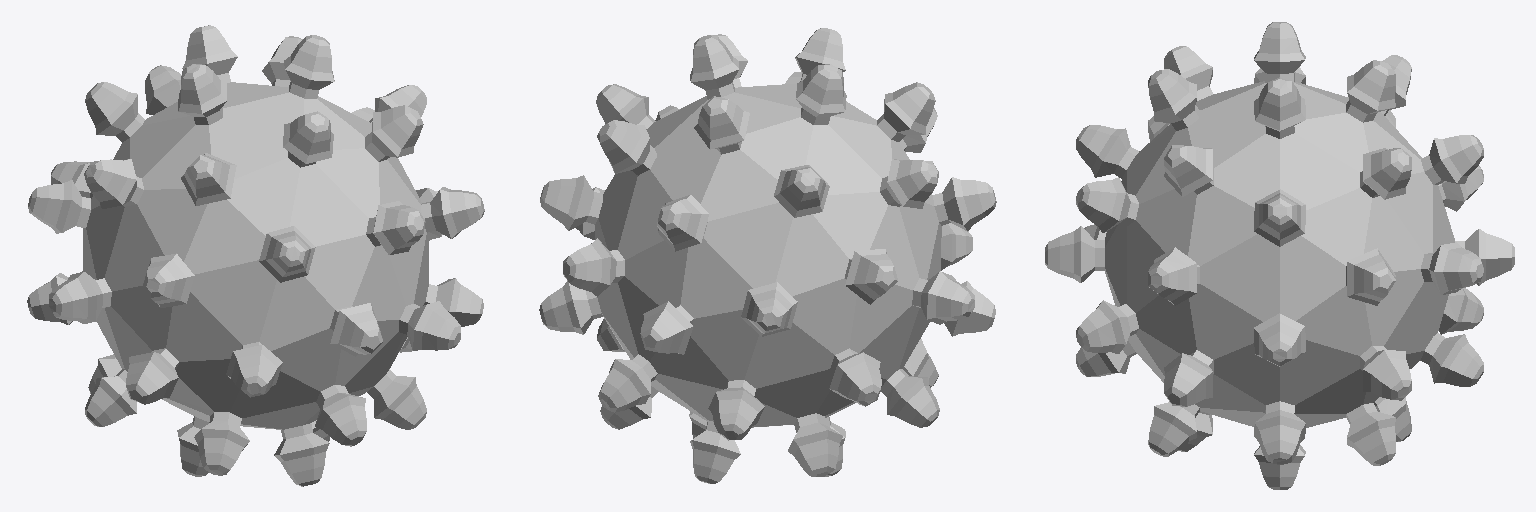
Rendered from virus.obj.
3 views of the same model, side by side, from view 1: azimuth 30°, elevation 25°; view 2: azimuth 150°, elevation 25°; view 3: azimuth 270°, elevation 25° (orthographic).
Visible parts, largest first — view 1: virus_covid_texture; view 2: virus_covid_texture; view 3: virus_covid_texture.
Boxes of the visible parts, x1=… form: virus_covid_texture: x1=27, y1=25, x2=484, y2=486; virus_covid_texture: x1=539, y1=28, x2=996, y2=483; virus_covid_texture: x1=1045, y1=22, x2=1514, y2=489.
Bounding box in the file's own units: 3.35 × 3.22 × 3.35.